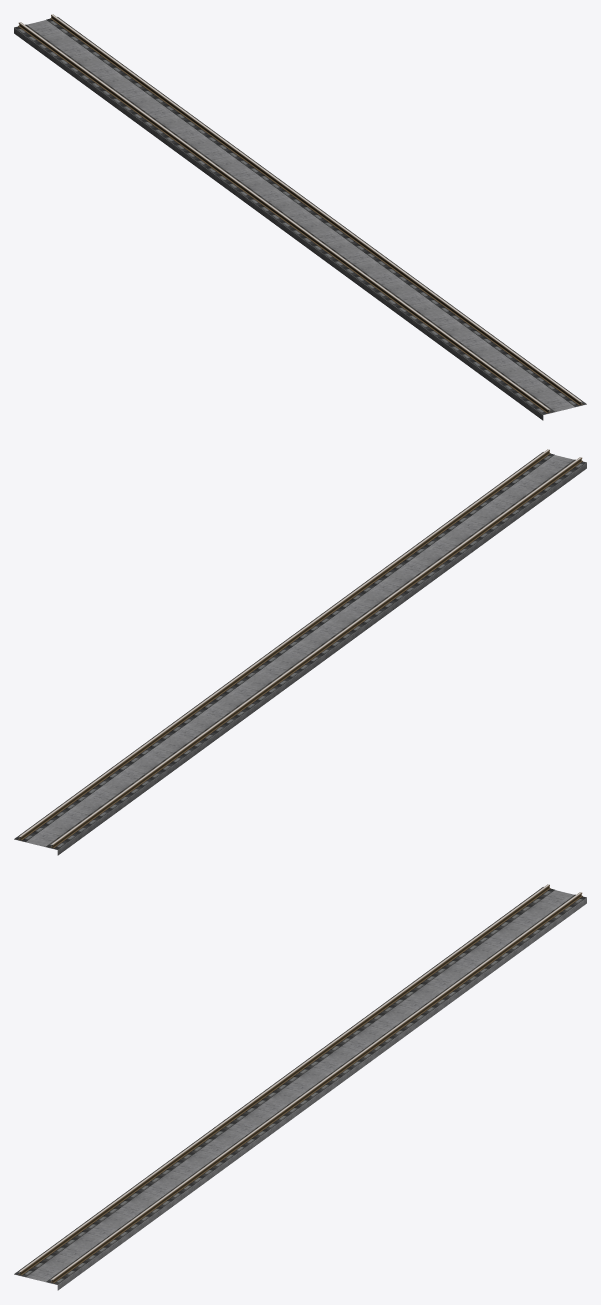
The model's file is SIN_1RAIL_100_CHIKA.glb.
The picture shows the model from 3 angles, top to bottom: view 1: azimuth 30°, elevation 25°; view 2: azimuth 150°, elevation 25°; view 3: azimuth 330°, elevation 25°; orthographic projection.
Visible parts, largest first — view 1: obj1; view 2: obj1; view 3: obj1.
Part boxes in pixels (x1,y1,x2,y2): obj1: (14, 14, 586, 420); obj1: (14, 449, 586, 855); obj1: (14, 884, 586, 1290).
Bounding box in the file's own units: 4.78 × 1.02 × 100.
4 materials, 3 textured.
